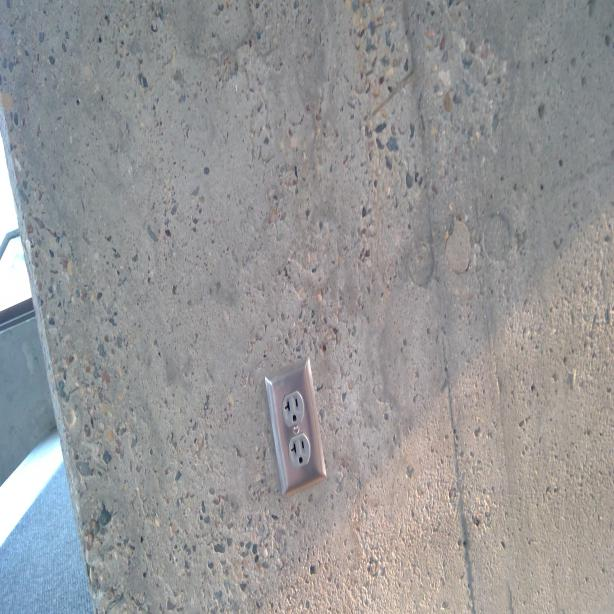typeb: (286, 437, 310, 471), (283, 391, 304, 426)
